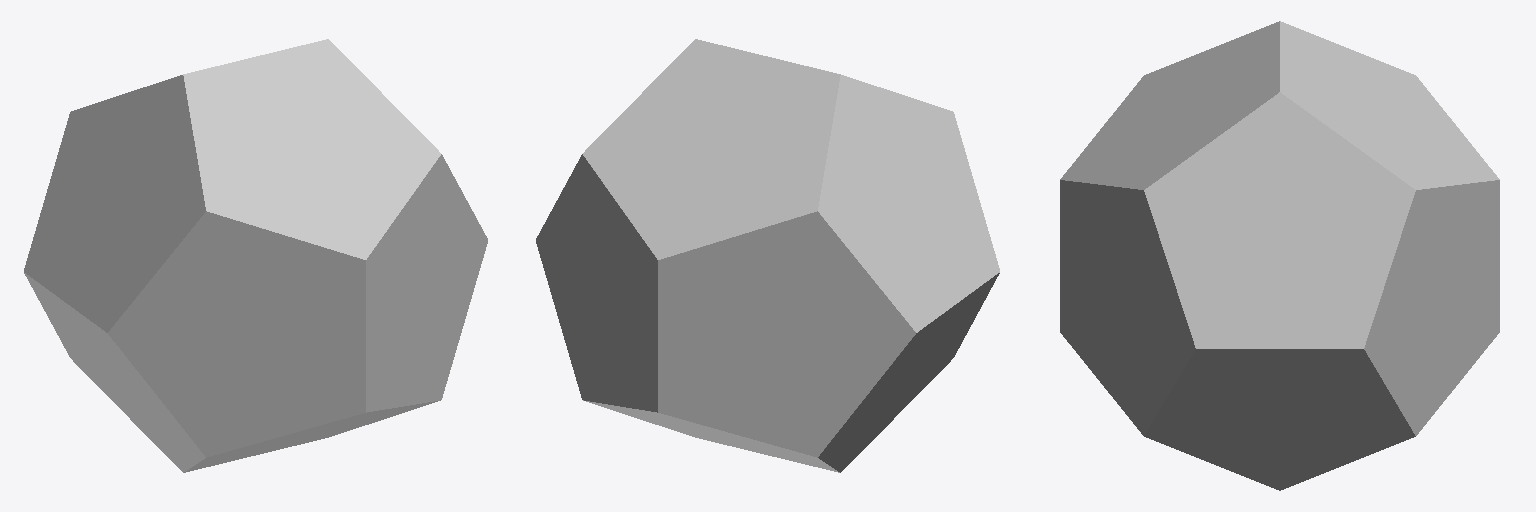
File: dodekahedron3.obj
The picture shows the model from 3 angles: view 1: azimuth 30°, elevation 25°; view 2: azimuth 150°, elevation 25°; view 3: azimuth 270°, elevation 25°; orthographic projection.
Parts seen in each view (by area): view 1: Mesh; view 2: Mesh; view 3: Mesh.
Part boxes in pixels (bbox=[...]): Mesh: bbox=[24, 39, 487, 472]; Mesh: bbox=[536, 39, 999, 472]; Mesh: bbox=[1060, 21, 1499, 490].
Size of the model in its own units: 0.9896 by 0.9896 by 0.9896.